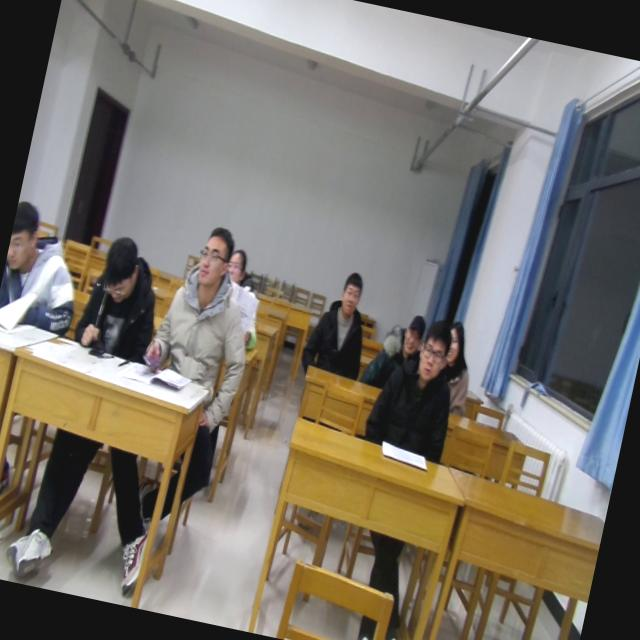bow: (0, 196, 96, 341)
down: (93, 228, 150, 310), (4, 196, 46, 277)
lookup: (187, 218, 239, 292), (412, 317, 454, 389), (333, 264, 366, 315), (442, 312, 471, 368), (396, 306, 428, 354), (136, 332, 167, 373)
sit: (139, 214, 273, 392), (360, 309, 474, 464), (69, 230, 170, 366), (298, 264, 379, 380), (210, 244, 276, 353), (360, 305, 430, 390), (429, 316, 482, 416)
